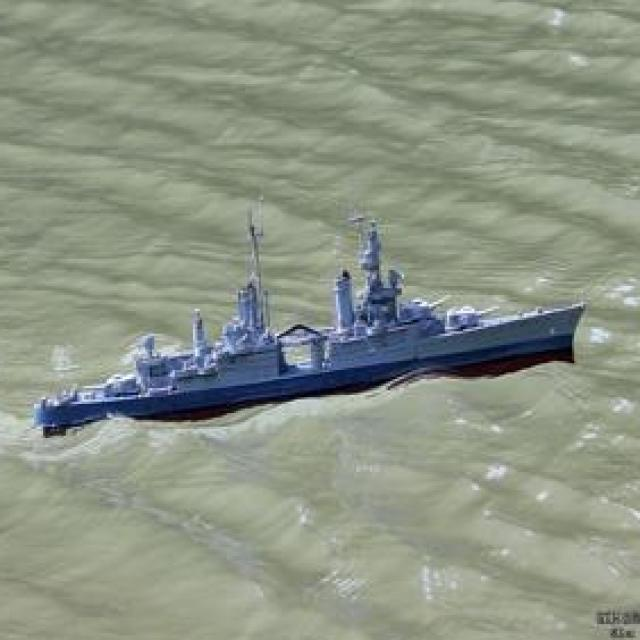navalvessels: (16, 202, 603, 441)
